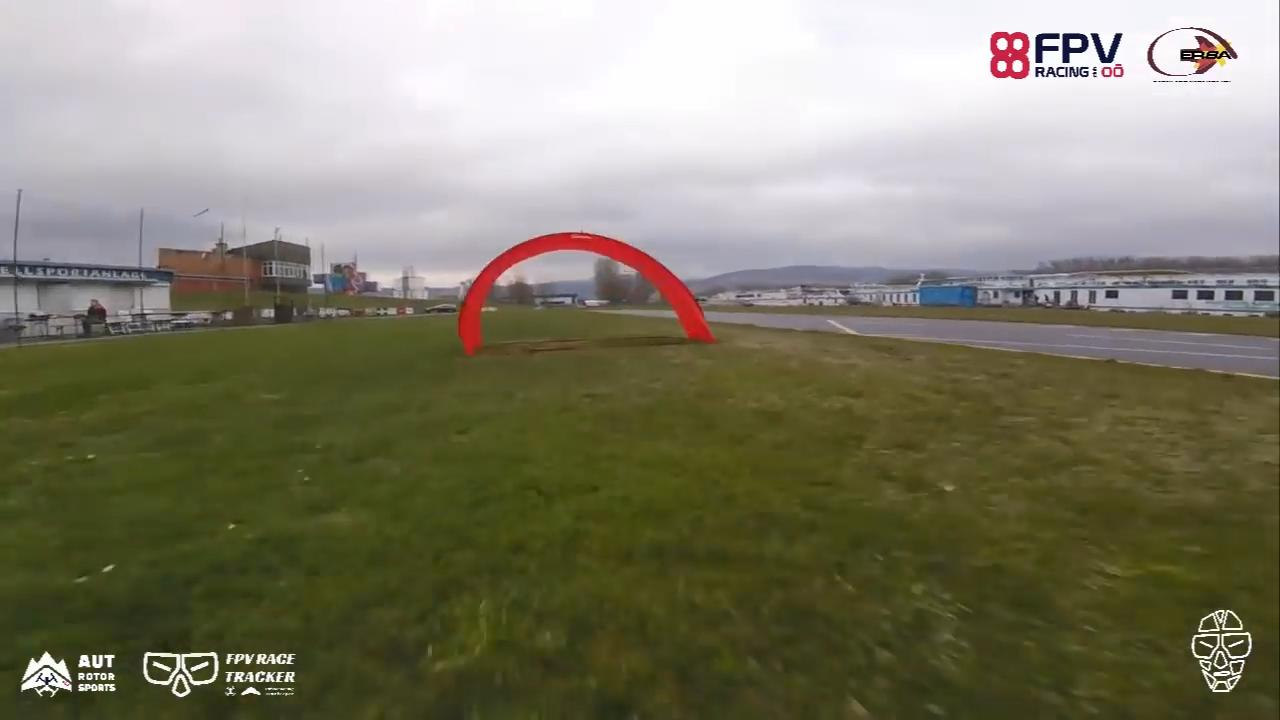gate: (454, 229, 721, 354)
